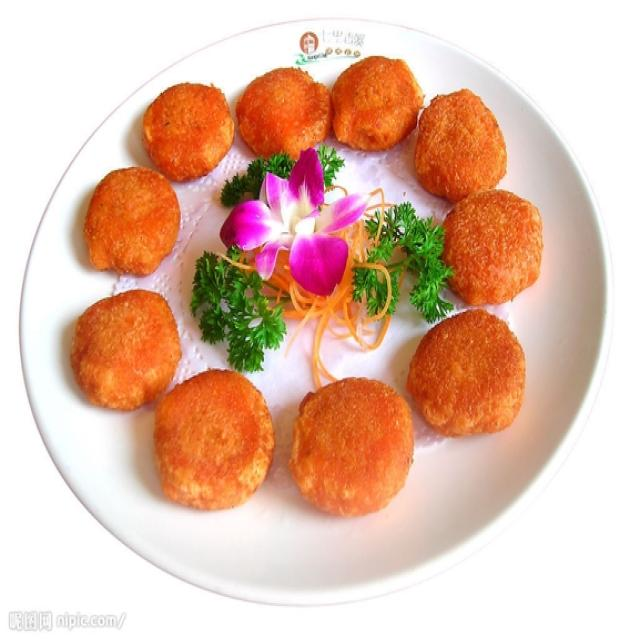炸货点心: (20, 14, 609, 602)
蛋糕甜品: (20, 14, 609, 602)
